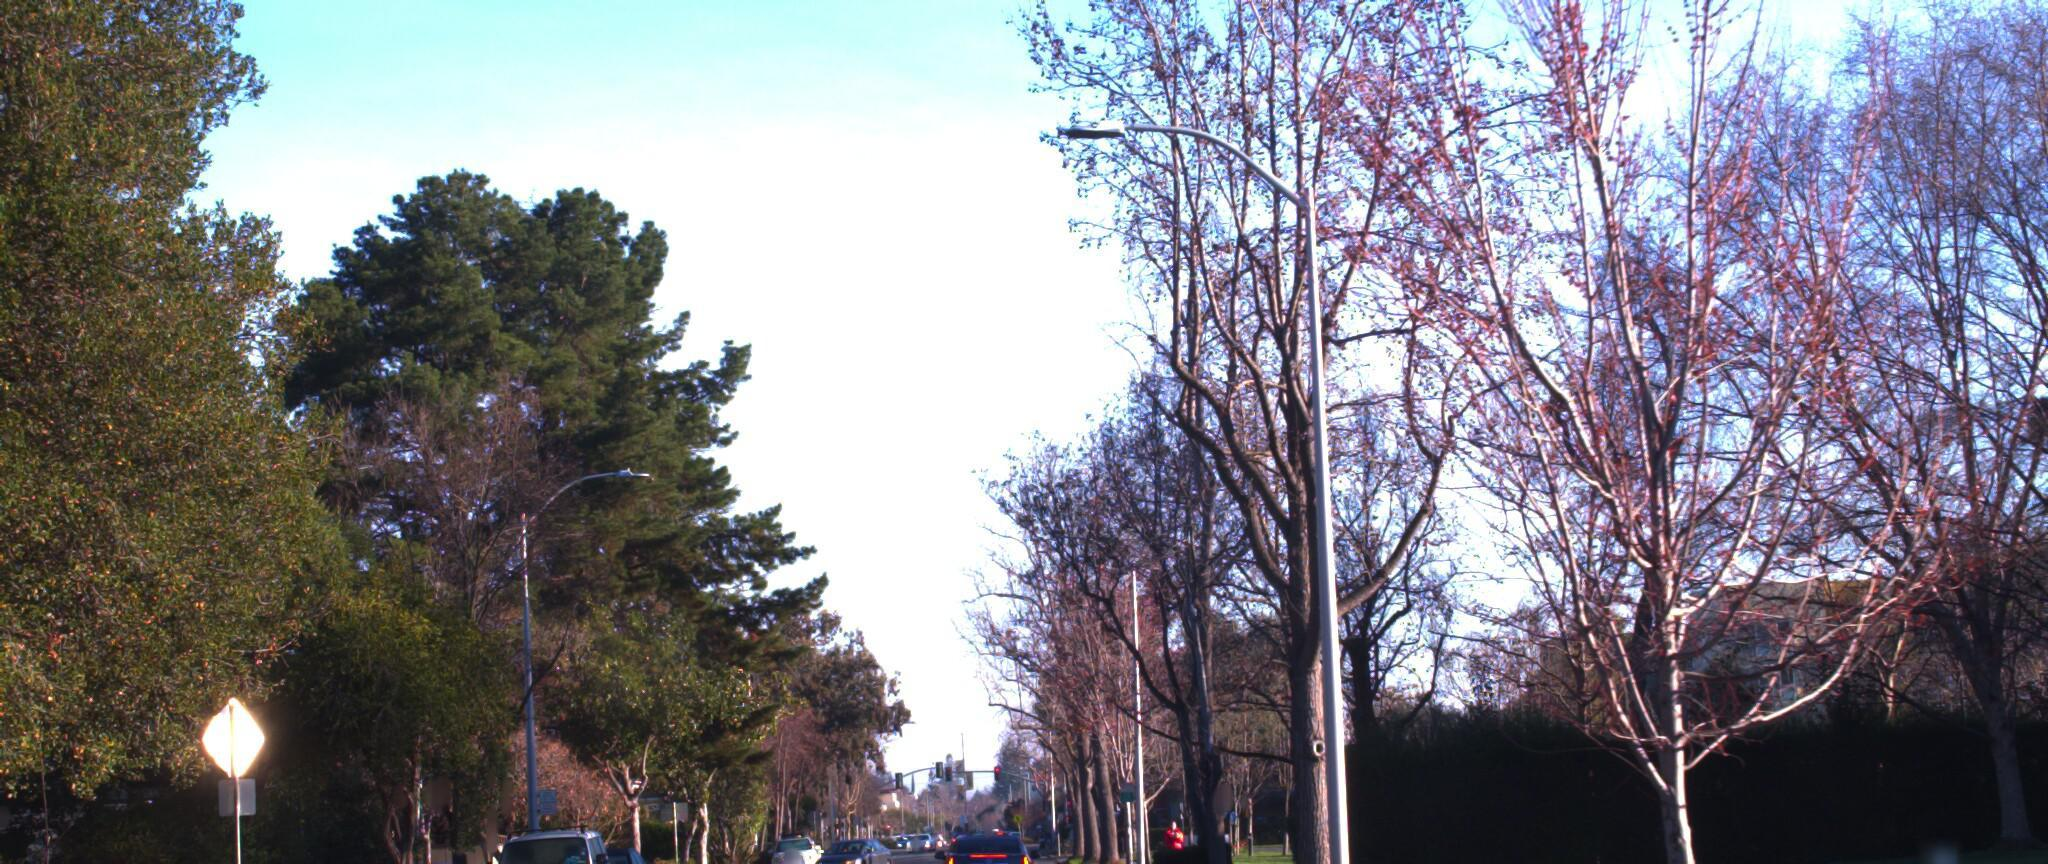car: (475, 803, 624, 864), (925, 809, 1040, 864), (276, 838, 509, 864)
